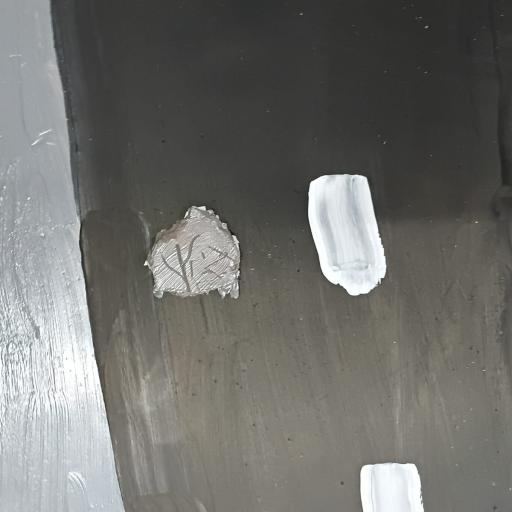porthole: (140, 200, 260, 304)
